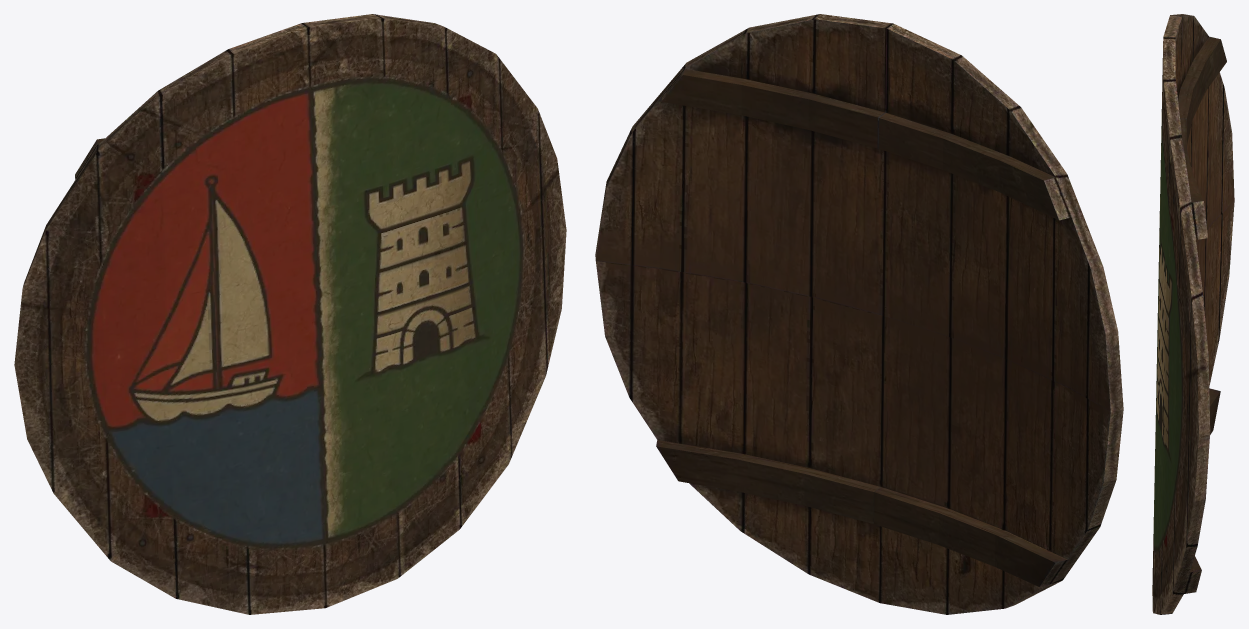
File: ITSH_SHIELD_WYNDHAM.glb
3 renders of one model, left to right at view 1: azimuth 30°, elevation 25°; view 2: azimuth 150°, elevation 25°; view 3: azimuth 270°, elevation 25°, orthographic. The views are drawn at different scales.
Visible parts, largest first — view 1: ITSH_SHIELD_WYNDHAM; view 2: ITSH_SHIELD_WYNDHAM; view 3: ITSH_SHIELD_WYNDHAM.
Boxes of the visible parts, x1=… form: ITSH_SHIELD_WYNDHAM: x1=14, y1=14, x2=566, y2=614; ITSH_SHIELD_WYNDHAM: x1=595, y1=14, x2=1123, y2=614; ITSH_SHIELD_WYNDHAM: x1=1152, y1=14, x2=1234, y2=614.
Size of the model in its own units: 0.732 by 0.7519 by 0.1023.
1 material, 1 textured.
